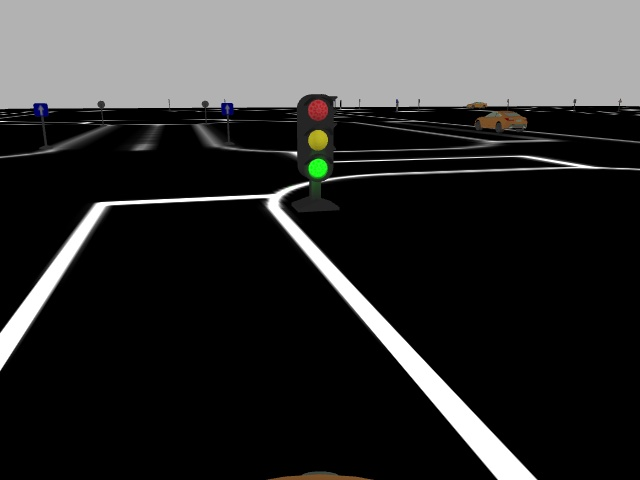green_light: (294, 92, 340, 186)
oneway: (32, 102, 49, 116), (221, 102, 233, 115)
